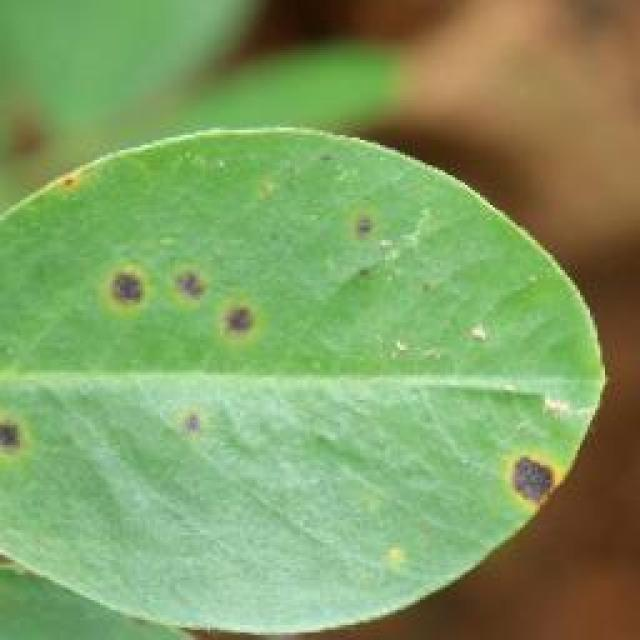Sigatoka: (96, 237, 271, 375), (318, 189, 401, 265), (166, 382, 224, 476), (0, 385, 52, 480), (494, 428, 554, 506), (56, 168, 94, 214)
